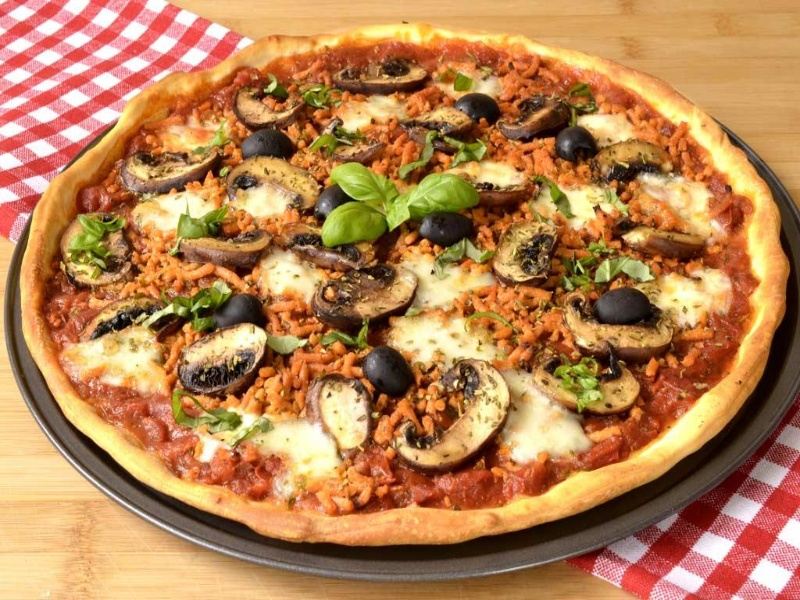champignon: (397, 355, 512, 470), (559, 292, 682, 373), (528, 344, 642, 422), (177, 323, 283, 403), (224, 152, 331, 228), (298, 372, 386, 459), (57, 206, 145, 293), (311, 264, 420, 325), (491, 218, 567, 291), (114, 149, 224, 191), (331, 55, 436, 96), (227, 84, 309, 130)
